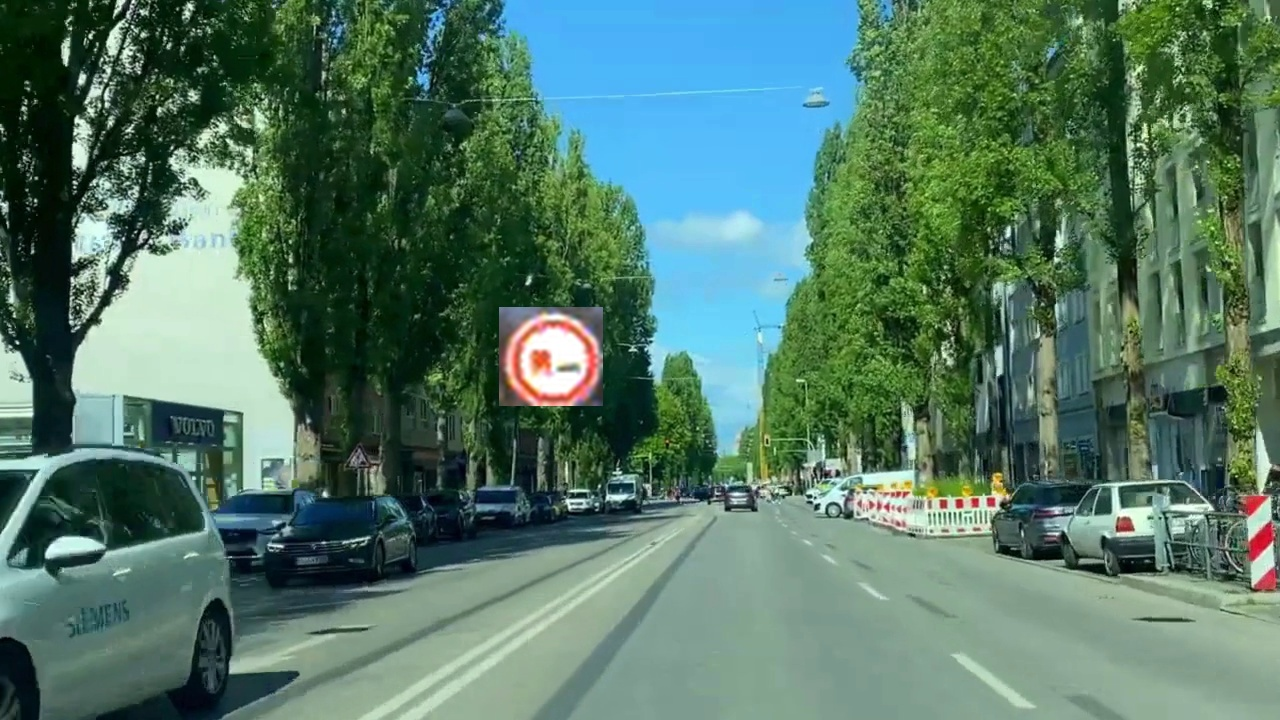No pass >3.5t: (499, 307, 603, 406)
